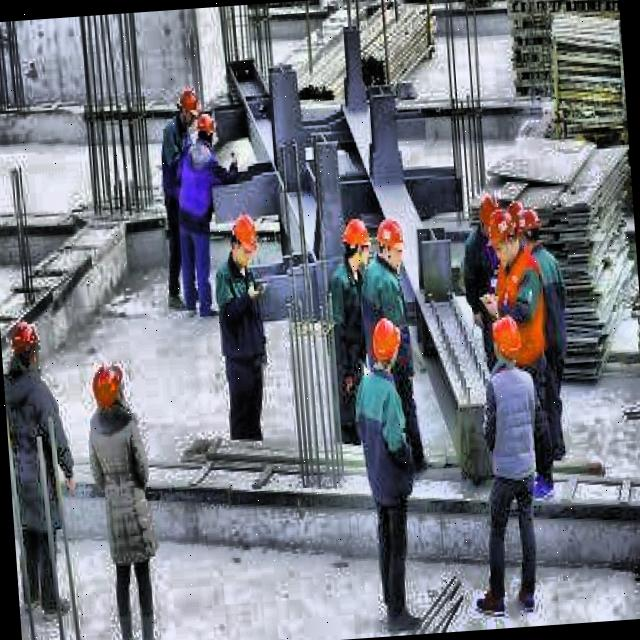helmet: (86, 353, 132, 416), (486, 202, 524, 270), (486, 310, 528, 366), (8, 313, 44, 375), (368, 317, 404, 377), (337, 215, 373, 273), (228, 209, 260, 273), (376, 214, 408, 272), (512, 203, 544, 255), (475, 192, 504, 246), (188, 110, 220, 148), (170, 88, 198, 126)
